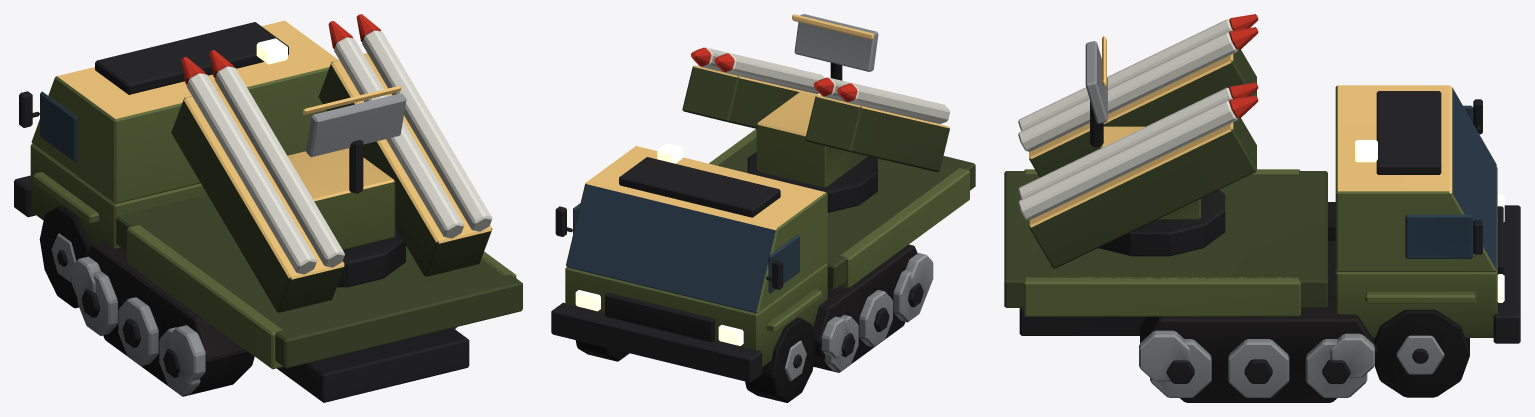
File: aa_halftrack.glb
3 views of the same model, side by side, from view 1: azimuth 30°, elevation 25°; view 2: azimuth 150°, elevation 25°; view 3: azimuth 270°, elevation 25° (orthographic). The views are drawn at different scales.
Parts seen in each view (by area): view 1: aa_halftrack; view 2: aa_halftrack; view 3: aa_halftrack.
Part boxes in pixels (x1=…): aa_halftrack: x1=14, y1=14, x2=522, y2=402; aa_halftrack: x1=551, y1=14, x2=975, y2=402; aa_halftrack: x1=1004, y1=14, x2=1520, y2=402.
Bounding box in the file's own units: 0.81 × 0.8273 × 1.34.
